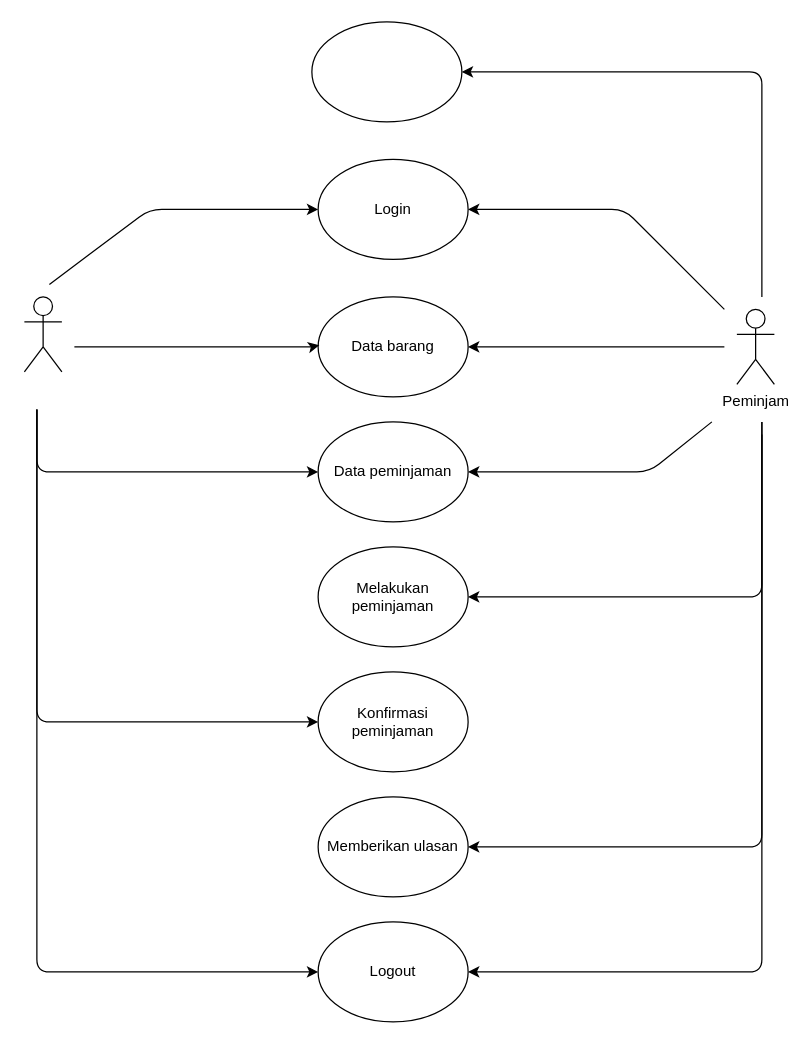
The diagram is 810 pixels wide and 1044 high, and some of its shapes have lost their labels. Here are the shapes that lost their labels. From the top down, the centre of each, then its label:
At (x=386, y=71): "Register".
At (x=42, y=334): "Admin".
